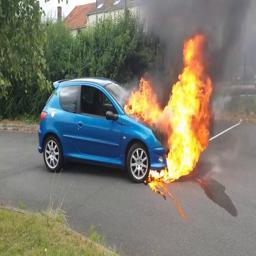fire: (127, 34, 213, 184)
